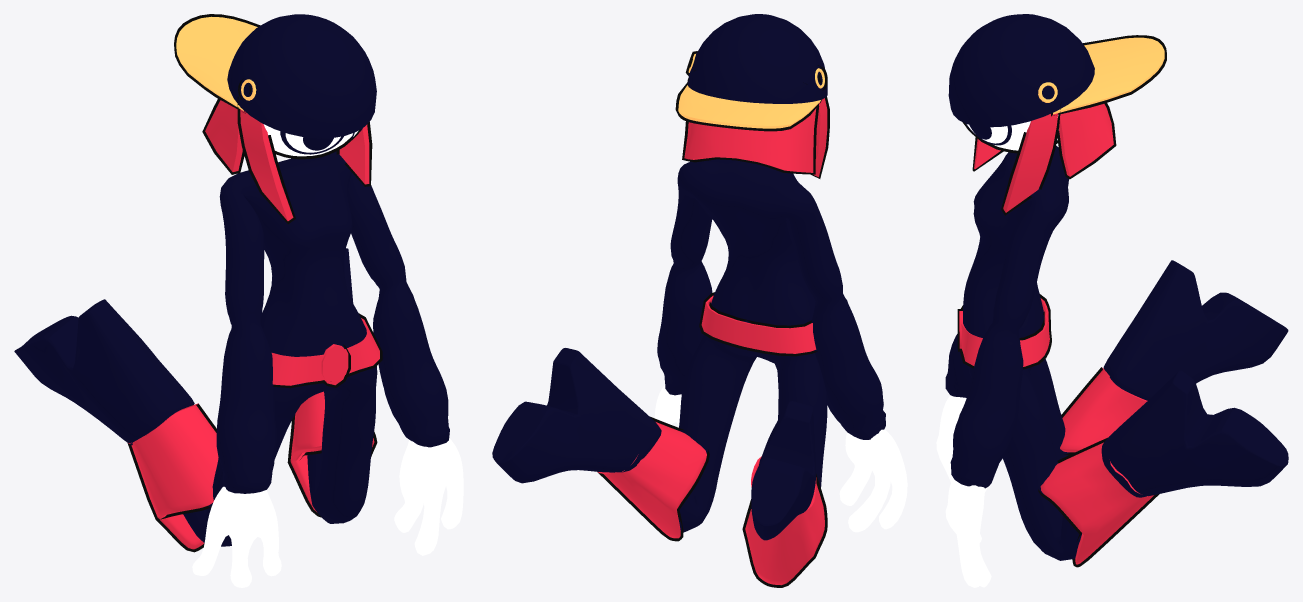
Rendered from nikku.glb.
The picture shows the model from 3 angles, left to right: view 1: azimuth 30°, elevation 25°; view 2: azimuth 150°, elevation 25°; view 3: azimuth 270°, elevation 25°; orthographic projection. The views are drawn at different scales.
Parts seen in each view (by area): view 1: Cube.003_2, Plane.011_9, Cube.001_10, Sphere.002_1; view 2: Cube.003_2, Plane.011_9, Cube.001_10, Sphere.002_1; view 3: Cube.003_2, Plane.011_9, Sphere.002_1, Cube.001_10.
Boxes of the visible parts, left/top/right/bottom form: Cube.003_2: left=14, top=14, right=449, bottom=546; Plane.011_9: left=127, top=96, right=382, bottom=552; Cube.001_10: left=192, top=438, right=463, bottom=587; Sphere.002_1: left=174, top=14, right=260, bottom=113; Cube.003_2: left=492, top=14, right=885, bottom=540; Plane.011_9: left=597, top=70, right=829, bottom=587; Cube.001_10: left=654, top=384, right=907, bottom=532; Sphere.002_1: left=675, top=51, right=827, bottom=131; Cube.003_2: left=945, top=14, right=1288, bottom=560; Plane.011_9: left=957, top=102, right=1159, bottom=567; Sphere.002_1: left=1038, top=35, right=1166, bottom=116; Cube.001_10: left=936, top=395, right=991, bottom=587.
Bounding box in the file's own units: 0.7156 × 1.22 × 0.7377.
5 materials, 1 textured.
